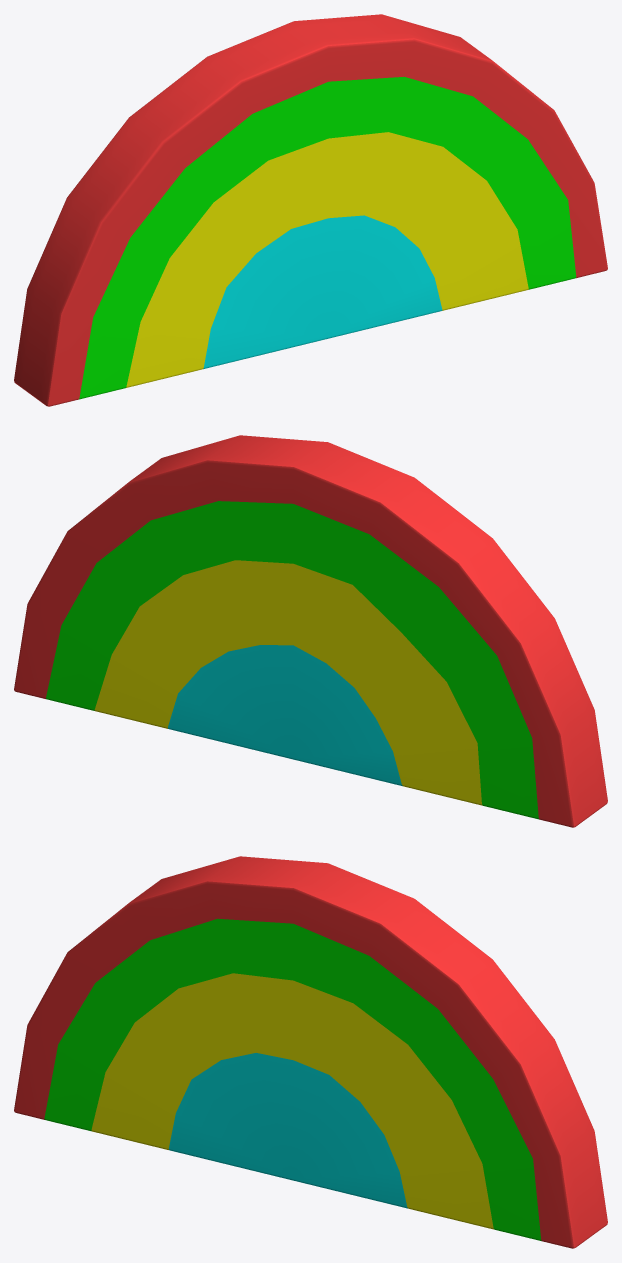
The model's file is caihong.fbx.
3 views of the same model, one above another, from view 1: azimuth 30°, elevation 25°; view 2: azimuth 150°, elevation 25°; view 3: azimuth 330°, elevation 25° (orthographic).
Parts seen in each view (by area): view 1: pCylinder18; view 2: pCylinder18; view 3: pCylinder18.
Boxes of the visible parts, x1=… form: pCylinder18: x1=14, y1=14, x2=607, y2=406; pCylinder18: x1=14, y1=435, x2=607, y2=827; pCylinder18: x1=14, y1=856, x2=607, y2=1248.
Bounding box in the file's own units: 1.53 × 0.7657 × 0.1652.
